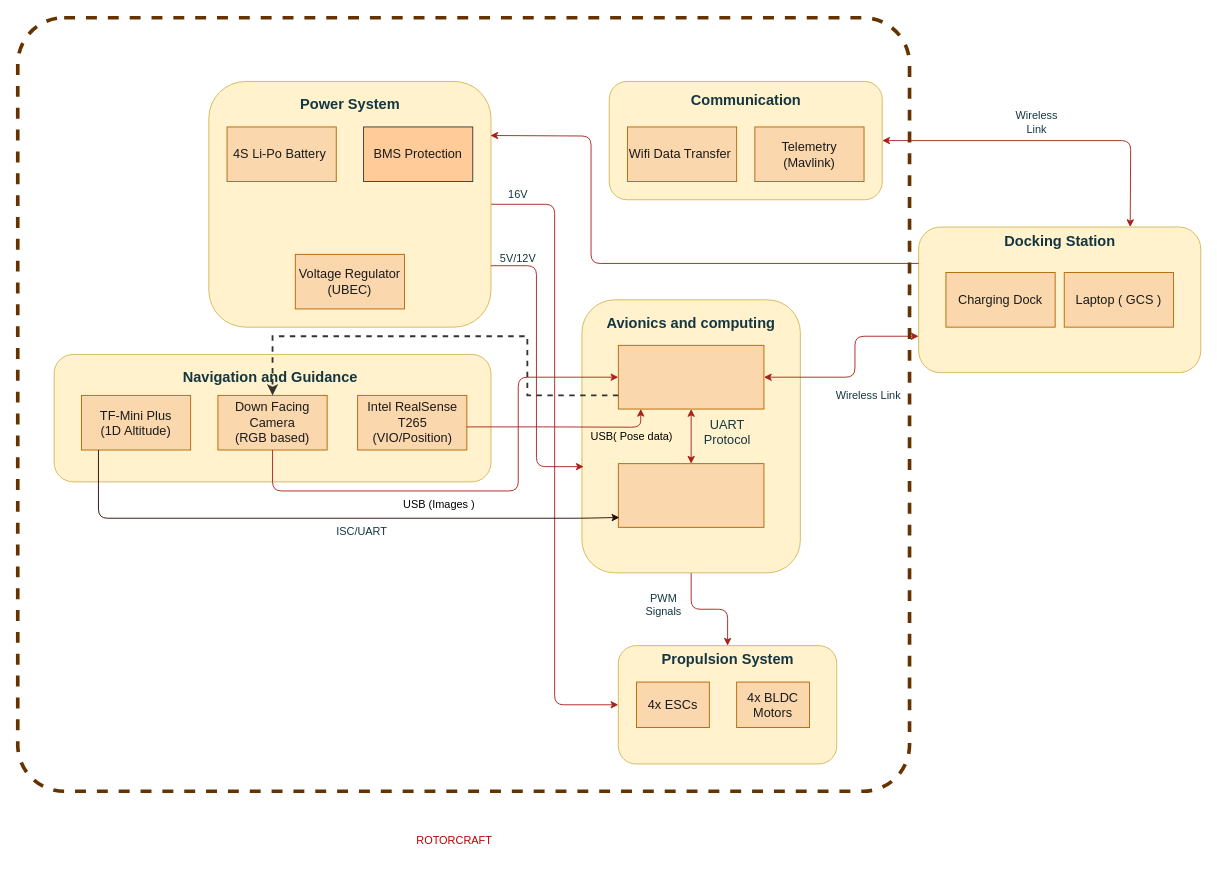
Some shapes in this 1217 by 879 pixel diagram are drawn without their labels. The centre of each missing label's shape, as x and y in pixels:
Nvidia Jetson Orin Nano ( Mission Computer ): the point at 690,376
Pixhawk 6C ( Flight Controller ): the point at 690,495
